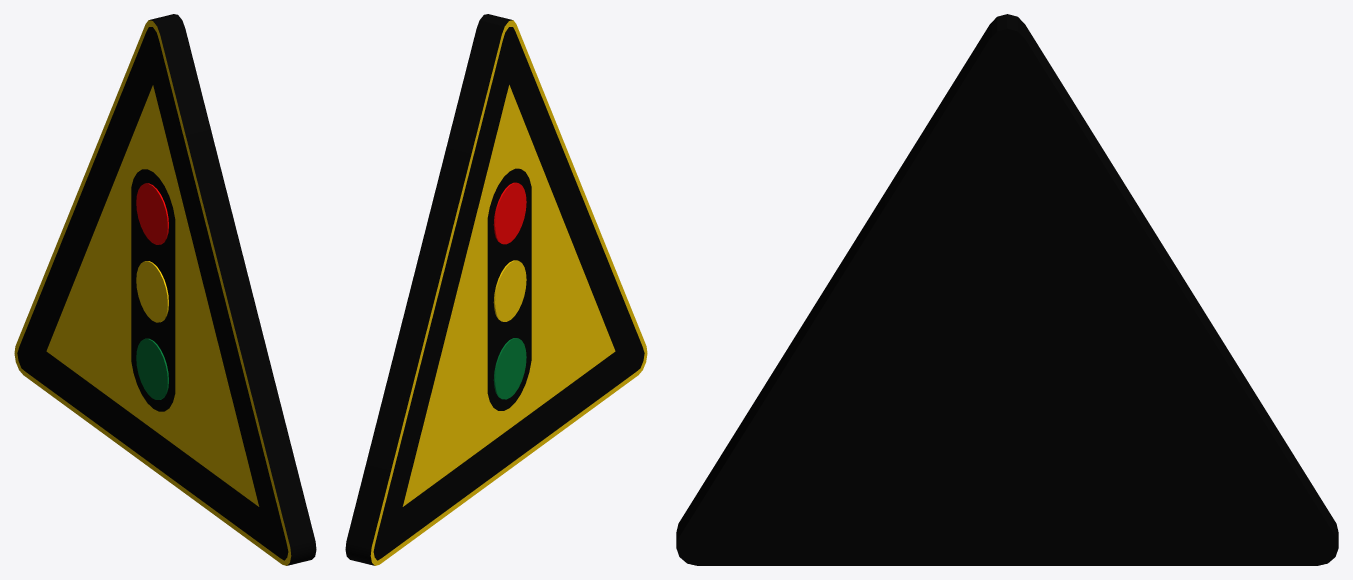
The model's file is Attention_Signal.fbx.
3 renders of one model, left to right at view 1: azimuth 30°, elevation 25°; view 2: azimuth 150°, elevation 25°; view 3: azimuth 270°, elevation 25°, orthographic. The views are drawn at different scales.
Visible parts, largest first — view 1: Attention_Signal; view 2: Attention_Signal; view 3: Attention_Signal.
Part boxes in pixels (left/top/right/bottom): Attention_Signal: left=14, top=14, right=316, bottom=565; Attention_Signal: left=345, top=14, right=647, bottom=565; Attention_Signal: left=676, top=14, right=1338, bottom=565.
Size of the model in its own units: 0.063 by 1.02 by 1.14.
